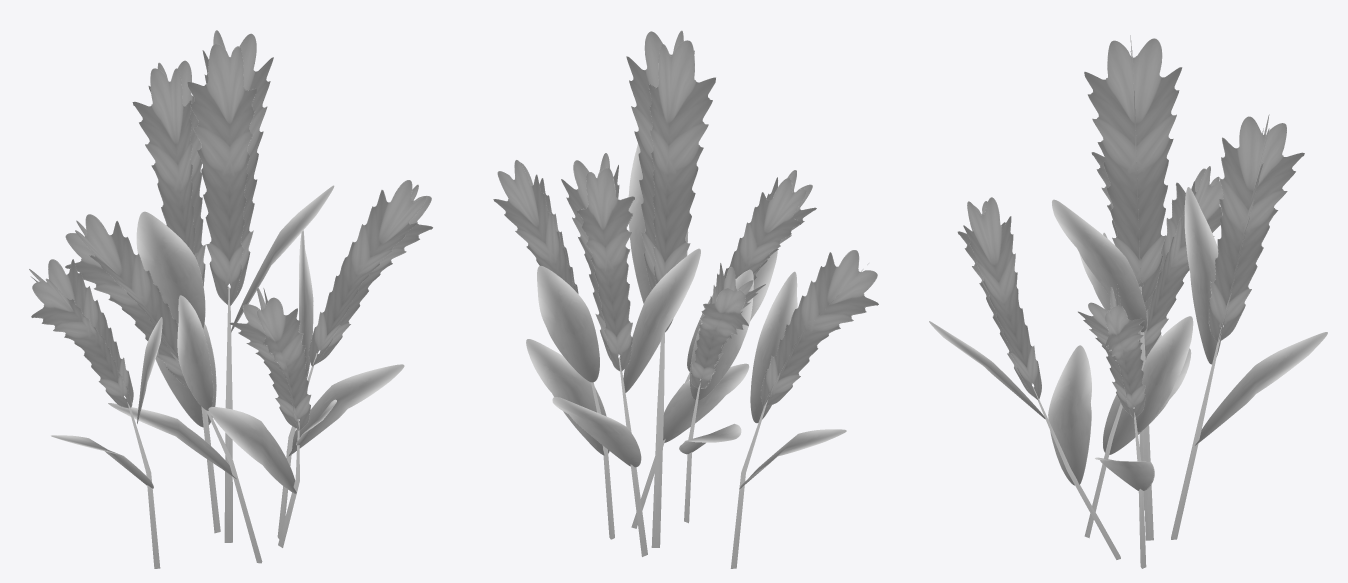
File: SM_FlowerTall_01.fbx
3 renders of one model, left to right at view 1: azimuth 30°, elevation 25°; view 2: azimuth 150°, elevation 25°; view 3: azimuth 270°, elevation 25°, orthographic. The views are drawn at different scales.
Visible parts, largest first — view 1: SM_FlowerTall_01_LOD0; view 2: SM_FlowerTall_01_LOD0; view 3: SM_FlowerTall_01_LOD0.
Part boxes in pixels (x1=…): SM_FlowerTall_01_LOD0: x1=29, y1=30, x2=432, y2=568; SM_FlowerTall_01_LOD0: x1=493, y1=30, x2=878, y2=568; SM_FlowerTall_01_LOD0: x1=929, y1=35, x2=1327, y2=568.
Size of what is drawn, in the model's own units: 0.9967 by 1.17 by 0.8581.
